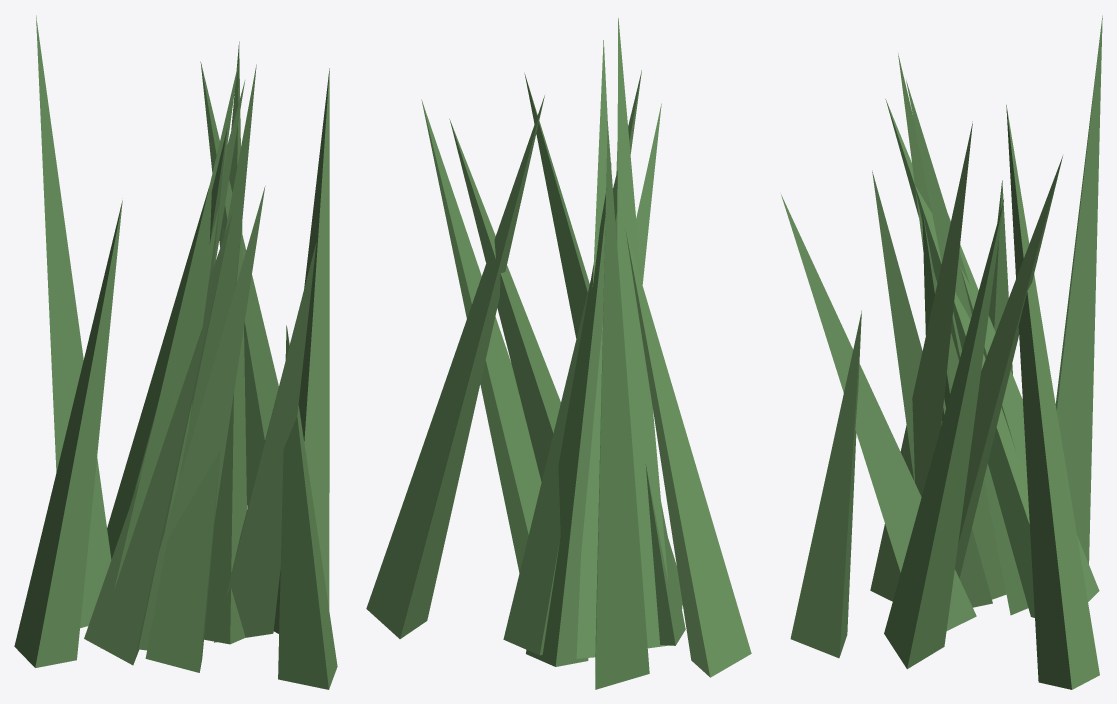
Rendered from SM_Grass_02.fbx.
The picture shows the model from 3 angles, left to right: view 1: azimuth 30°, elevation 25°; view 2: azimuth 150°, elevation 25°; view 3: azimuth 270°, elevation 25°; orthographic projection. The views are drawn at different scales.
Parts seen in each view (by area): view 1: SM_Grass_02; view 2: SM_Grass_02; view 3: SM_Grass_02.
Boxes of the visible parts, left/top/right/bottom form: SM_Grass_02: left=14, top=15, right=337, bottom=689; SM_Grass_02: left=366, top=18, right=751, bottom=689; SM_Grass_02: left=781, top=15, right=1102, bottom=689.
Size of the model in its own units: 0.3138 by 0.5348 by 0.2706.
